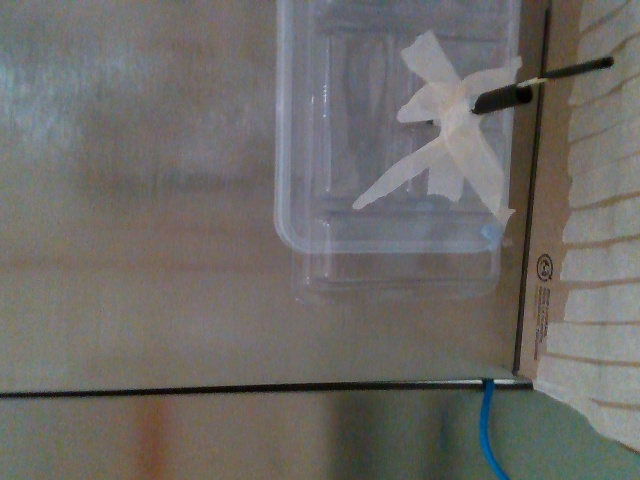test_strip: (518, 52, 611, 87)
